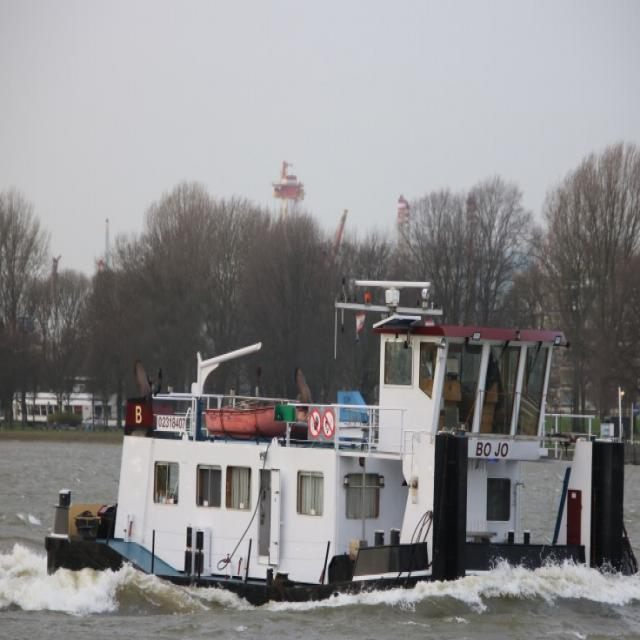tugboat: (42, 270, 640, 628)
